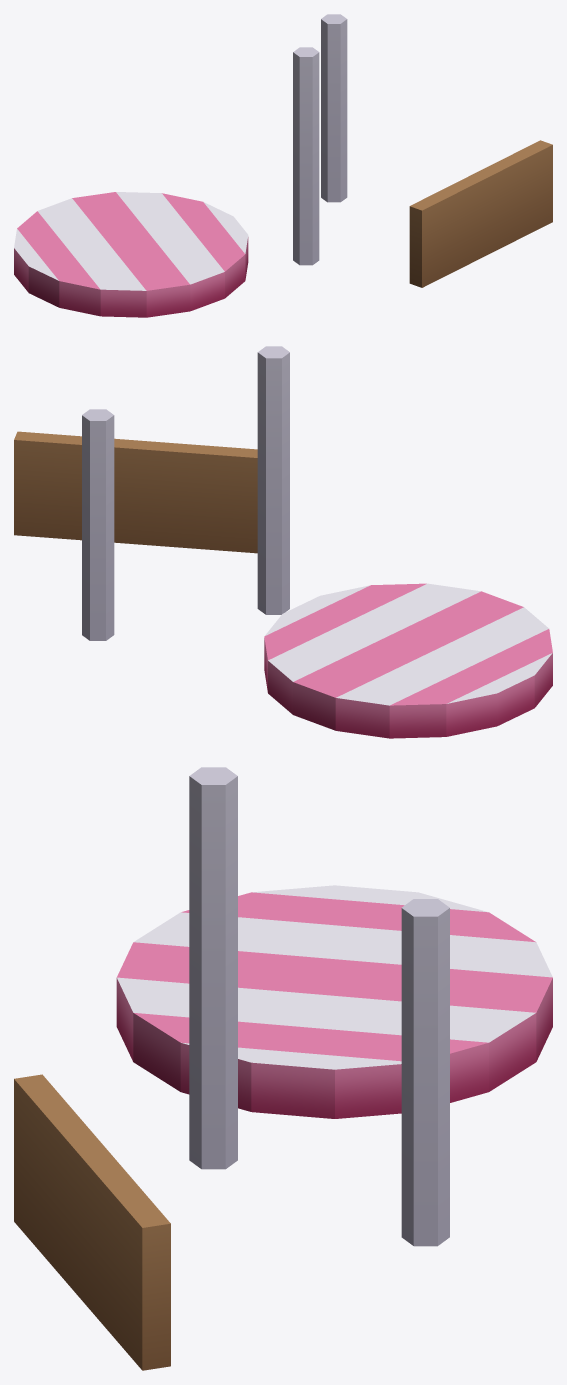
The model's file is PlayGround_Kit_Lollipop_Sign_Broken.fbx.
The picture shows the model from 3 angles, top to bottom: view 1: azimuth 30°, elevation 25°; view 2: azimuth 150°, elevation 25°; view 3: azimuth 270°, elevation 25°; orthographic projection. The views are drawn at different scales.
Parts seen in each view (by area): view 1: PlayGround_Kit_Lollipop_Sign_Broken_3, PlayGround_Kit_Lollipop_Sign_Broken_4, PlayGround_Kit_Lollipop_Sign_Broken_1, PlayGround_Kit_Lollipop_Sign_Broken_2; view 2: PlayGround_Kit_Lollipop_Sign_Broken_3, PlayGround_Kit_Lollipop_Sign_Broken_4, PlayGround_Kit_Lollipop_Sign_Broken_1, PlayGround_Kit_Lollipop_Sign_Broken_2; view 3: PlayGround_Kit_Lollipop_Sign_Broken_3, PlayGround_Kit_Lollipop_Sign_Broken_4, PlayGround_Kit_Lollipop_Sign_Broken_1, PlayGround_Kit_Lollipop_Sign_Broken_2.
Boxes of the visible parts, left/top/right/bottom form: PlayGround_Kit_Lollipop_Sign_Broken_3: left=14, top=192, right=248, bottom=317; PlayGround_Kit_Lollipop_Sign_Broken_4: left=409, top=140, right=552, bottom=287; PlayGround_Kit_Lollipop_Sign_Broken_1: left=293, top=47, right=319, bottom=265; PlayGround_Kit_Lollipop_Sign_Broken_2: left=321, top=14, right=347, bottom=202; PlayGround_Kit_Lollipop_Sign_Broken_3: left=264, top=583, right=552, bottom=738; PlayGround_Kit_Lollipop_Sign_Broken_4: left=14, top=431, right=257, bottom=553; PlayGround_Kit_Lollipop_Sign_Broken_1: left=257, top=346, right=289, bottom=614; PlayGround_Kit_Lollipop_Sign_Broken_2: left=82, top=409, right=114, bottom=640; PlayGround_Kit_Lollipop_Sign_Broken_3: left=116, top=885, right=552, bottom=1118; PlayGround_Kit_Lollipop_Sign_Broken_4: left=14, top=1074, right=170, bottom=1370; PlayGround_Kit_Lollipop_Sign_Broken_1: left=189, top=767, right=237, bottom=1169; PlayGround_Kit_Lollipop_Sign_Broken_2: left=401, top=899, right=449, bottom=1246.
Size of the model in its own units: 1.66 by 0.71 by 0.8895.
